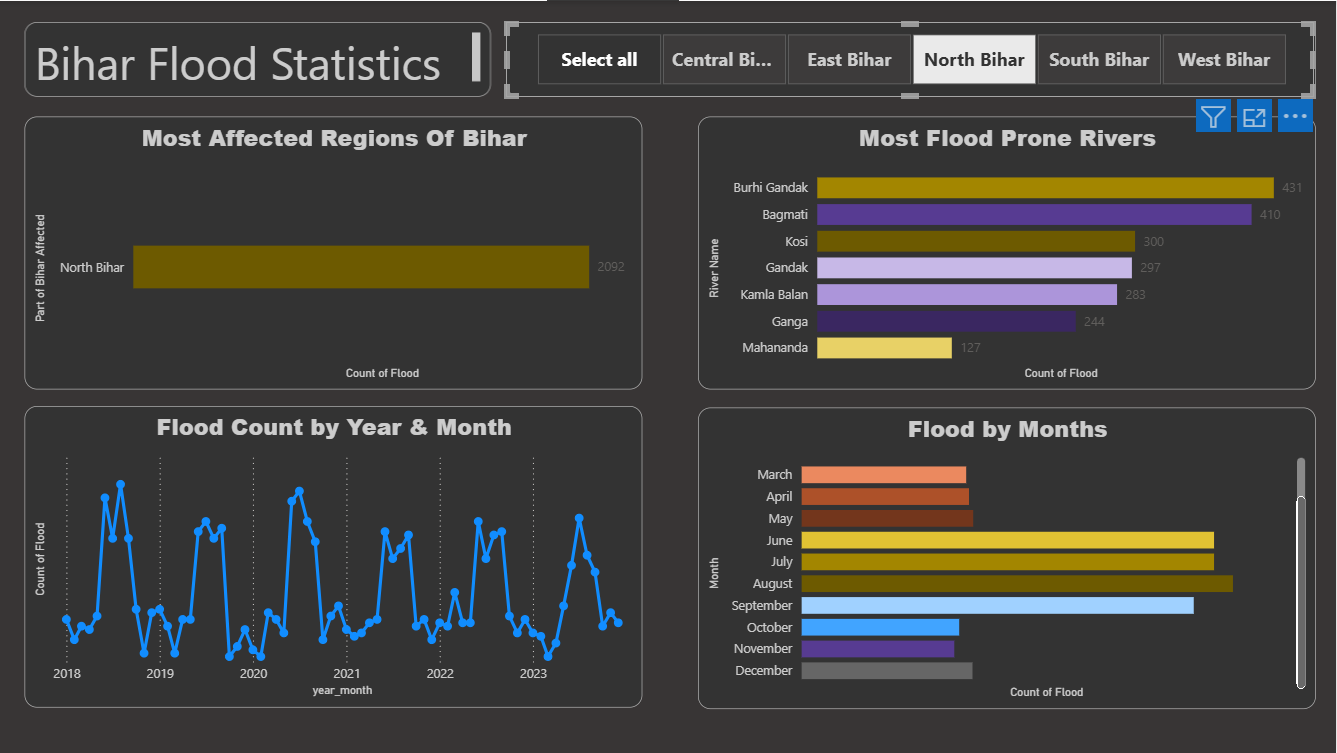

Layout of this report page (visuals, bound fields, positions):
{"tool":"powerbi","page":{"name":"Page 1","canvas":[1280,720],"ordinal":0},"visuals":[{"type":"clusteredBarChart","title":"Most Affected Regions Of Bihar","fields":{"Category":["bihar_river_flood_data_with_region_year_month.Part of Bihar Affected"],"Y":["CountNonNull(bihar_river_flood_data_with_region_year_month.Flood)"]},"box":[27,109.8,590.1,260.9],"z":0},{"type":"clusteredBarChart","title":"Most Flood Prone Rivers","fields":{"Category":["bihar_river_flood_data_with_region_year_month.River Name"],"Y":["CountNonNull(bihar_river_flood_data_with_region_year_month.Flood)"]},"box":[669.6,109.8,590.1,260.9],"z":1000},{"type":"lineChart","title":"Flood Count by Year & Month","fields":{"Y":["CountNonNull(bihar_river_flood_data_with_region_year_month.Flood)"],"Category":["bihar_river_flood_data_with_region_year_month.year_month"]},"box":[27,386.5,590.1,287.9],"z":2000},{"type":"slicer","fields":{"Values":["bihar_river_flood_data_with_region_year_month.Part of Bihar Affected"]},"box":[486.7,20.7,773,71.6],"z":3000},{"type":"textbox","box":[27,20.7,445.4,71.6],"z":4000},{"type":"clusteredBarChart","title":"Flood by Months","fields":{"Category":["year_month.year_month.Variation.Date Hierarchy.Month"],"Y":["CountNonNull(year_month.Flood)"]},"box":[669.6,388.1,590.1,287.9],"z":4001}]}

Visuals, with their boxes in screenshot pixels (x1, y1, x2, y2), scaled from the page's 1280x720 canvas onto the 1337x753 screenshot:
"Most Affected Regions Of Bihar" clusteredBarChart: [x1=28, y1=115, x2=645, y2=388]
"Most Flood Prone Rivers" clusteredBarChart: [x1=699, y1=115, x2=1316, y2=388]
"Flood Count by Year & Month" lineChart: [x1=28, y1=404, x2=645, y2=705]
slicer - bihar_river_flood_data_with_region_year_month.Part of Bihar Affected: [x1=508, y1=22, x2=1316, y2=97]
textbox: [x1=28, y1=22, x2=493, y2=97]
"Flood by Months" clusteredBarChart: [x1=699, y1=406, x2=1316, y2=707]
